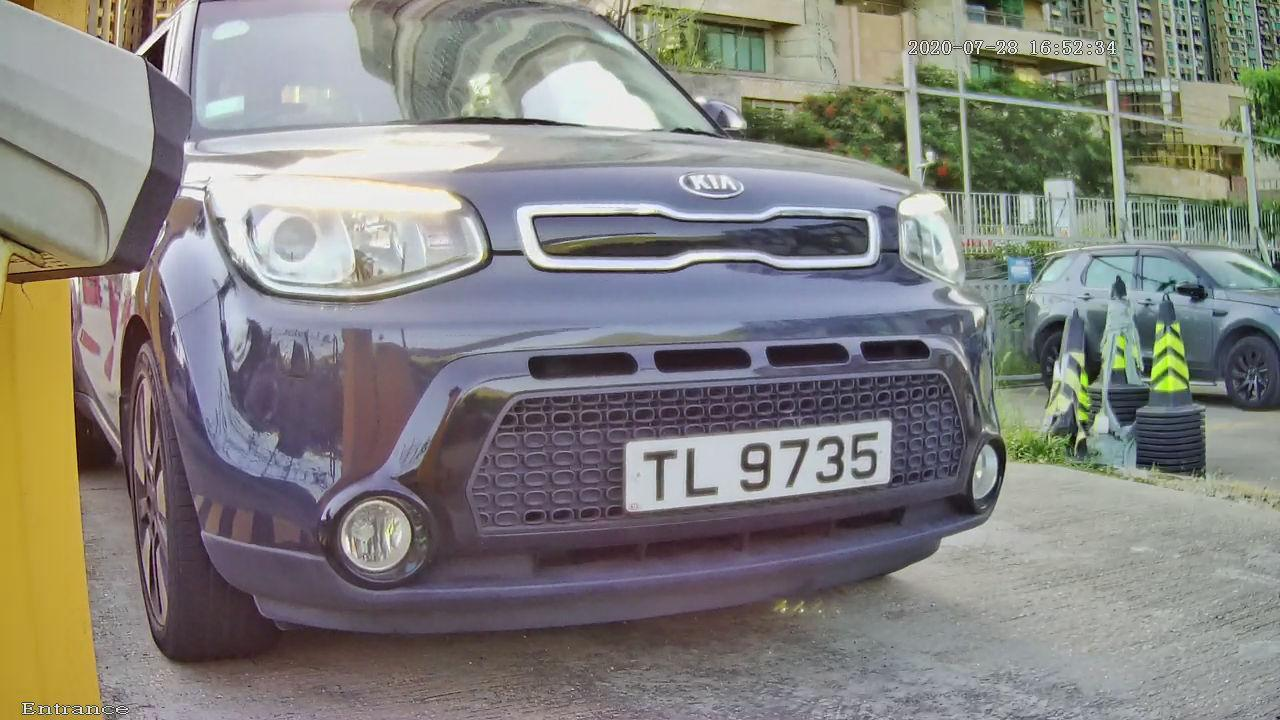privatecar: (46, 13, 1138, 672)
